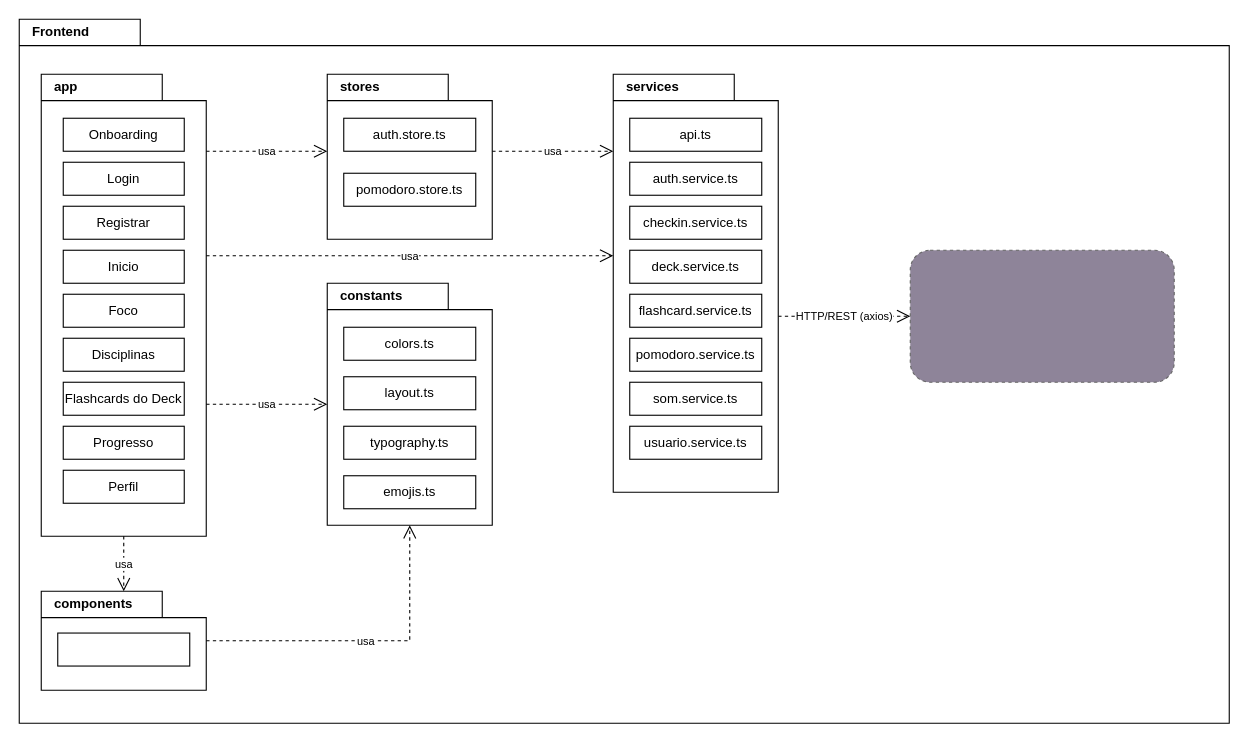
Image size: 1249x743. Some labels were removed from this diagram. The centre of each missing label's shape, as x and y in pixels:
"focus-backend (API REST, sistema externo)" belongs at (1041,315).
"ui/CampoSenha.tsx" belongs at (123,649).
